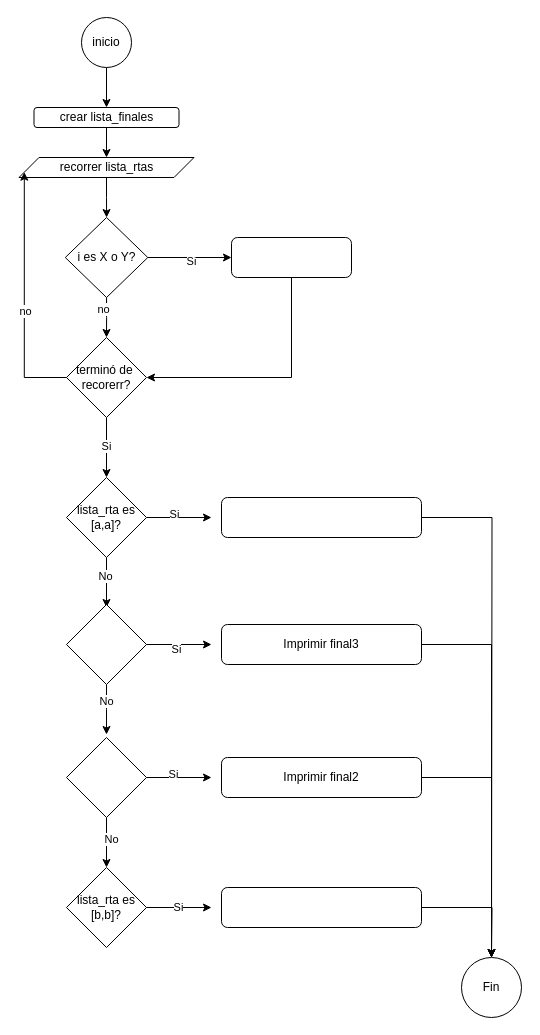
The diagram is 540 pixels wide and 1035 high, and some of its shapes have lost their labels. The shapes that lost their labels are listed below. From the top down, each one's centre as x and y in pixels, then its label:
At point (291, 257): "Agregar a lista_finales".
At point (321, 517): "Imprimir final1".
At point (106, 644): "lista_rta es [a,b]?".
At point (106, 777): "lista_rta es [b,a]?".
At point (321, 907): "Imprimir final4".
